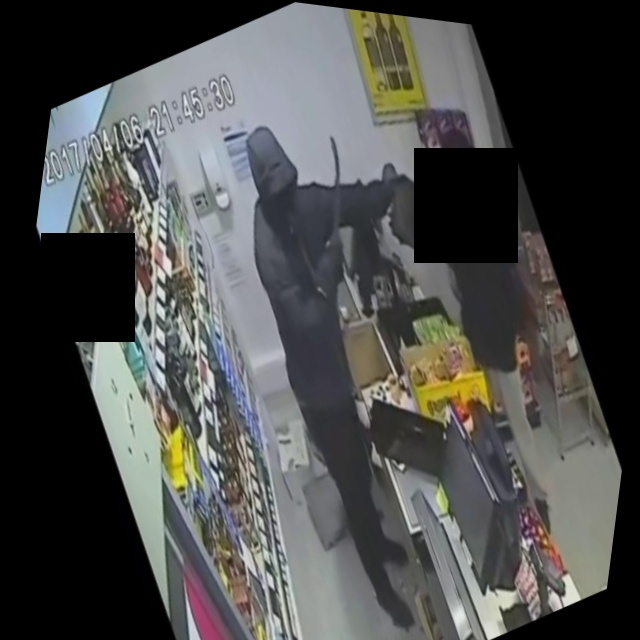gun: (273, 124, 389, 271)
